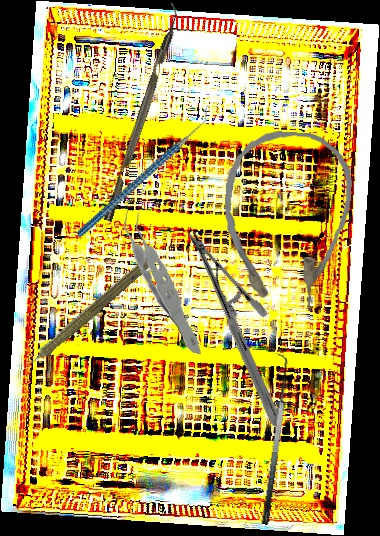Cannula: (217, 127, 356, 314)
Chopper: (50, 104, 237, 238), (92, 0, 186, 223)
Handpiece: (14, 252, 155, 378)
Needle Holder: (127, 229, 343, 429)
Spatula Surgical: (247, 352, 296, 526)
Tissue Forceps: (115, 203, 212, 354)
